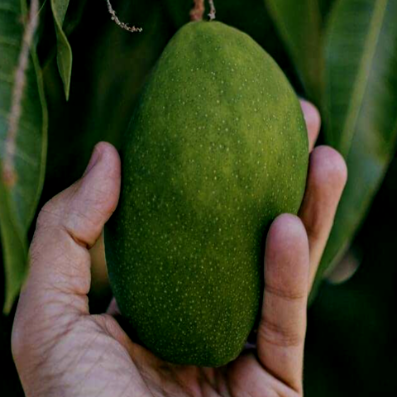mango: (67, 4, 375, 379)
